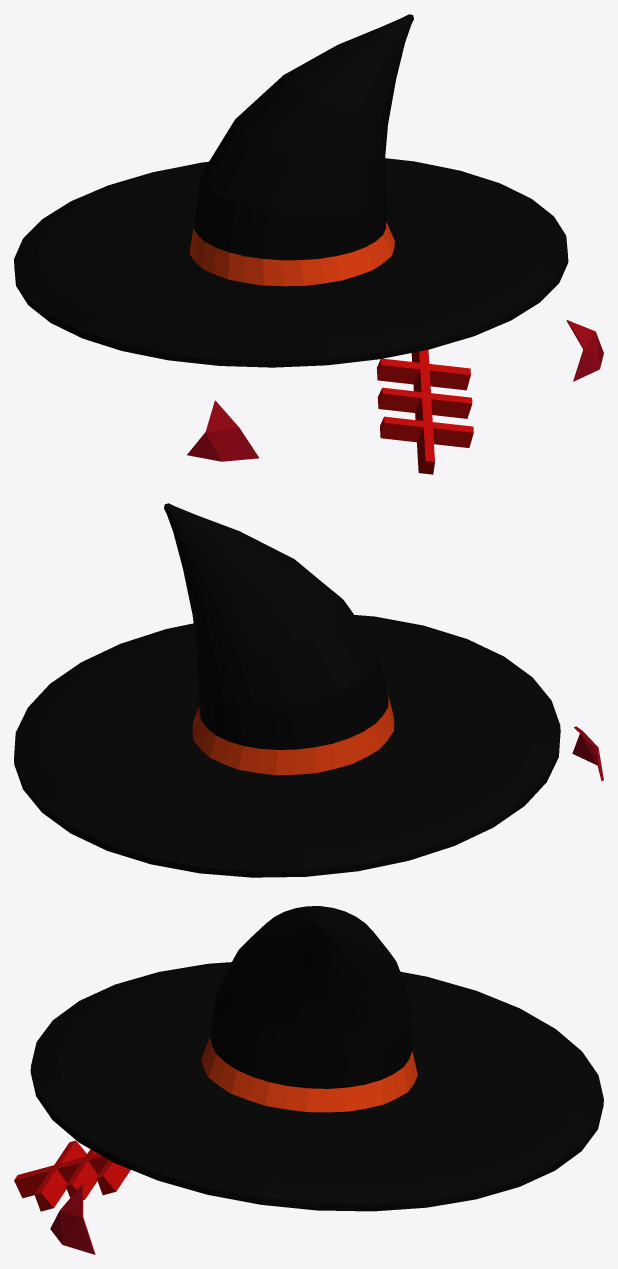
The model's file is witch.glb.
3 renders of one model, top to bottom at view 1: azimuth 30°, elevation 25°; view 2: azimuth 150°, elevation 25°; view 3: azimuth 270°, elevation 25°, orthographic. The views are drawn at different scales.
Parts seen in each view (by area): view 1: cap, Cylinder.003, stich, eye.001, eyeR.001; view 2: cap, Cylinder.003, eye.001; view 3: cap, Cylinder.003, stich, eyeR.001.
Boxes of the visible parts, bbox=[...] form: cap: bbox=[14, 158, 568, 367]; Cylinder.003: bbox=[189, 14, 413, 286]; stich: bbox=[377, 349, 473, 474]; eye.001: bbox=[187, 400, 258, 461]; eyeR.001: bbox=[566, 320, 603, 381]; cap: bbox=[14, 615, 560, 877]; Cylinder.003: bbox=[164, 503, 394, 775]; eye.001: bbox=[572, 726, 603, 781]; cap: bbox=[30, 962, 603, 1211]; Cylinder.003: bbox=[201, 906, 417, 1112]; stich: bbox=[14, 1140, 130, 1211]; eyeR.001: bbox=[50, 1184, 95, 1254].
Size of the model in its own units: 0.8956 by 0.5787 by 0.9204.
